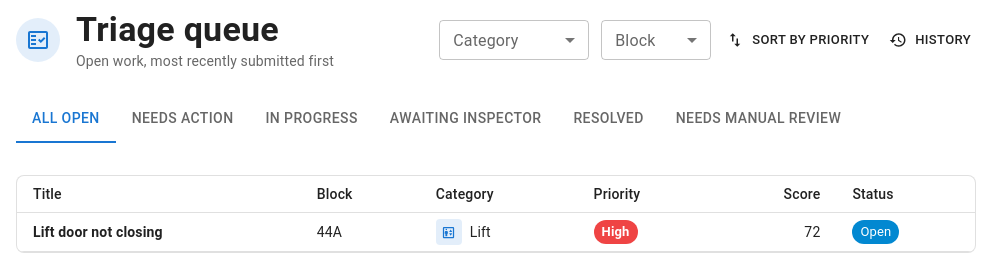
Test: InspectionListPage — sort › the priority toggle cycles Critical→Low, then Low→Critical, then off
Click the button "Sort by priority": (799, 40) [723,25,874,55]
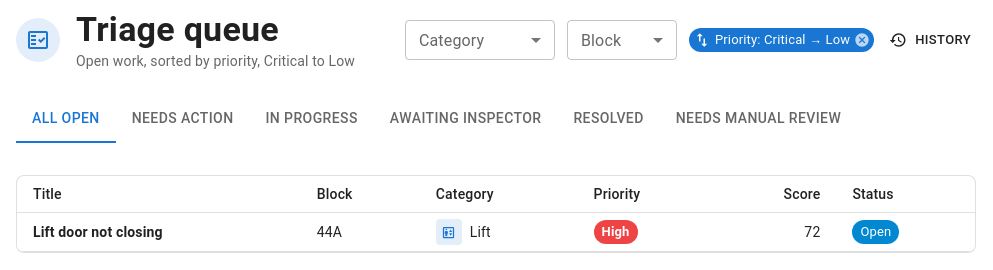
Result: the text "Priority: Critical → Low" is shown at [707,30,858,50]
Click the button "Priority: Critical → Low": (782, 40) [689,28,874,52]
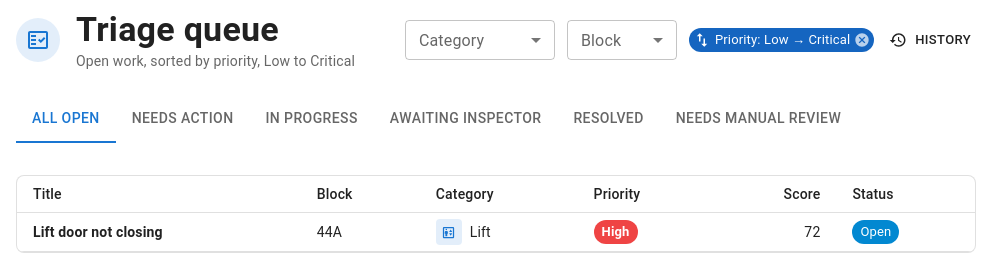
Result: the text "Priority: Low → Critical" is shown at [707,30,858,50]
Click the icon with test id "CancelIcon": (862, 40) [854,32,870,48]
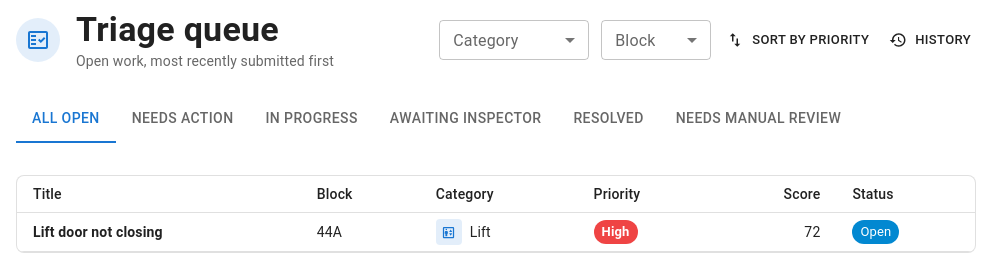
Result: the button "Sort by priority" is shown at [723,25,874,55]
